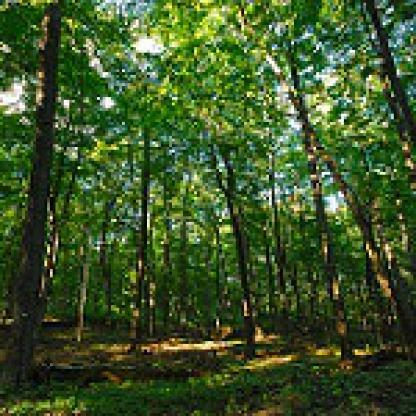tree: (158, 53, 269, 341), (102, 66, 186, 346)
trunk: (0, 6, 67, 396), (288, 47, 358, 363), (355, 0, 413, 194), (122, 141, 150, 358), (224, 192, 260, 360), (100, 200, 119, 327), (72, 252, 94, 344)
